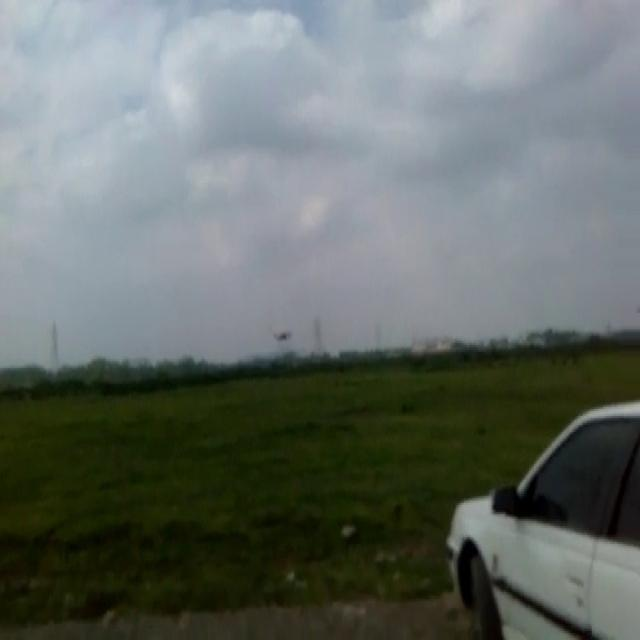drone: (272, 324, 292, 343)
